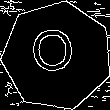O_S: (33, 29, 81, 83)
